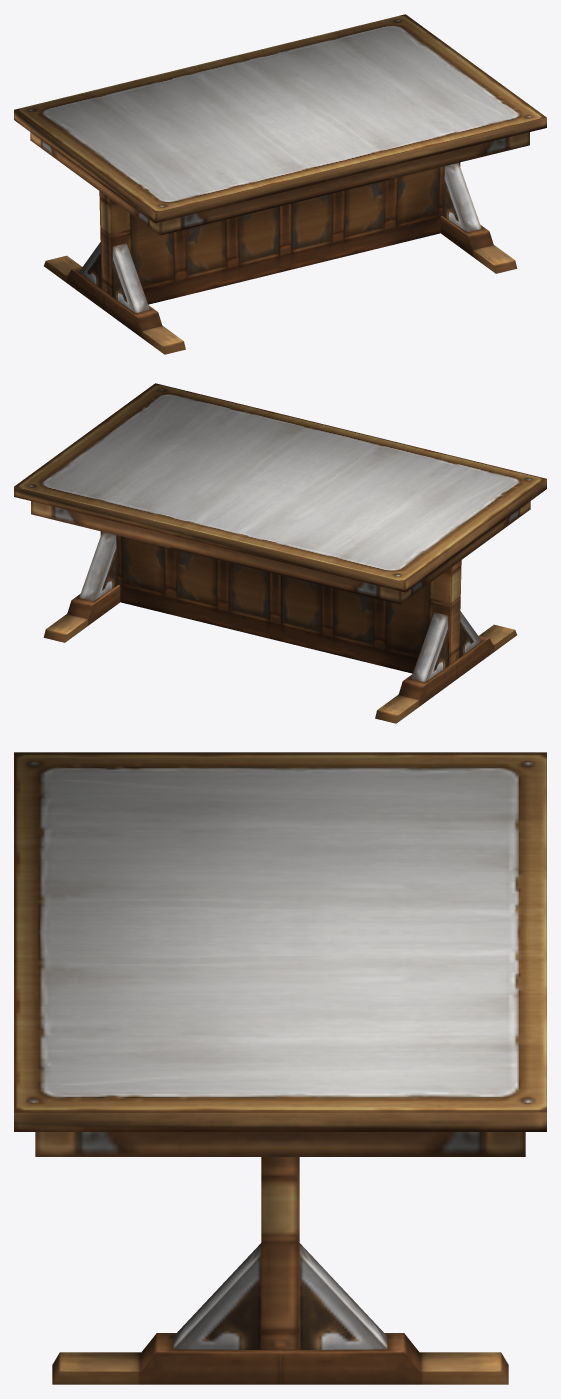
Rendered from a_SWItable02.glb.
3 renders of one model, top to bottom at view 1: azimuth 30°, elevation 25°; view 2: azimuth 150°, elevation 25°; view 3: azimuth 270°, elevation 25°, orthographic. The views are drawn at different scales.
Visible parts, largest first — view 1: a_SWItable02; view 2: a_SWItable02; view 3: a_SWItable02.
Part boxes in pixels (x1,y1,x2,y2): a_SWItable02: [14, 14, 546, 354]; a_SWItable02: [14, 383, 546, 723]; a_SWItable02: [14, 752, 546, 1384].
Bounding box in the file's own units: 2.4 × 0.9 × 1.5.
1 material, 1 textured.
